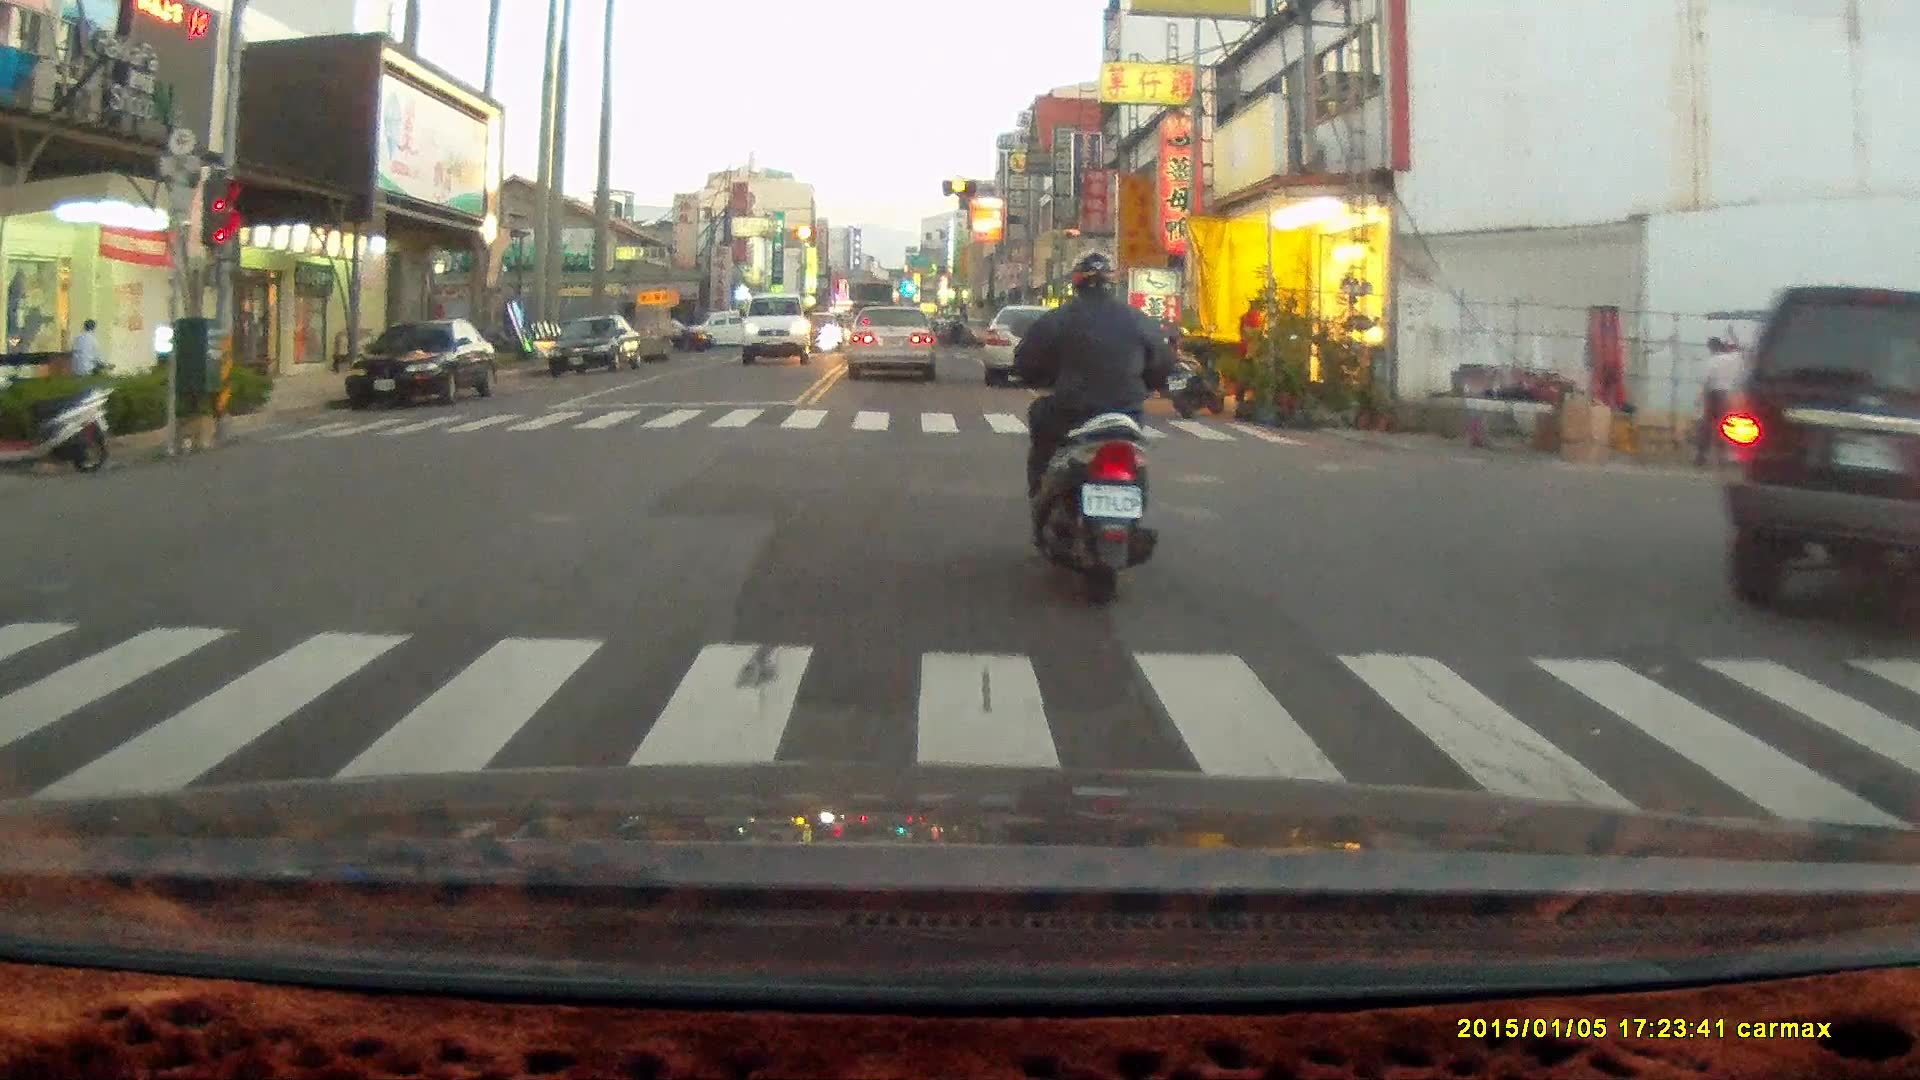pedestrian: (1693, 333, 1743, 470), (1232, 296, 1268, 411), (69, 317, 103, 391)
rider: (1007, 246, 1172, 603)
vehicle: (1711, 281, 1920, 619), (341, 318, 496, 415), (984, 302, 1094, 389), (848, 303, 937, 381), (550, 315, 644, 379), (743, 294, 813, 365)
